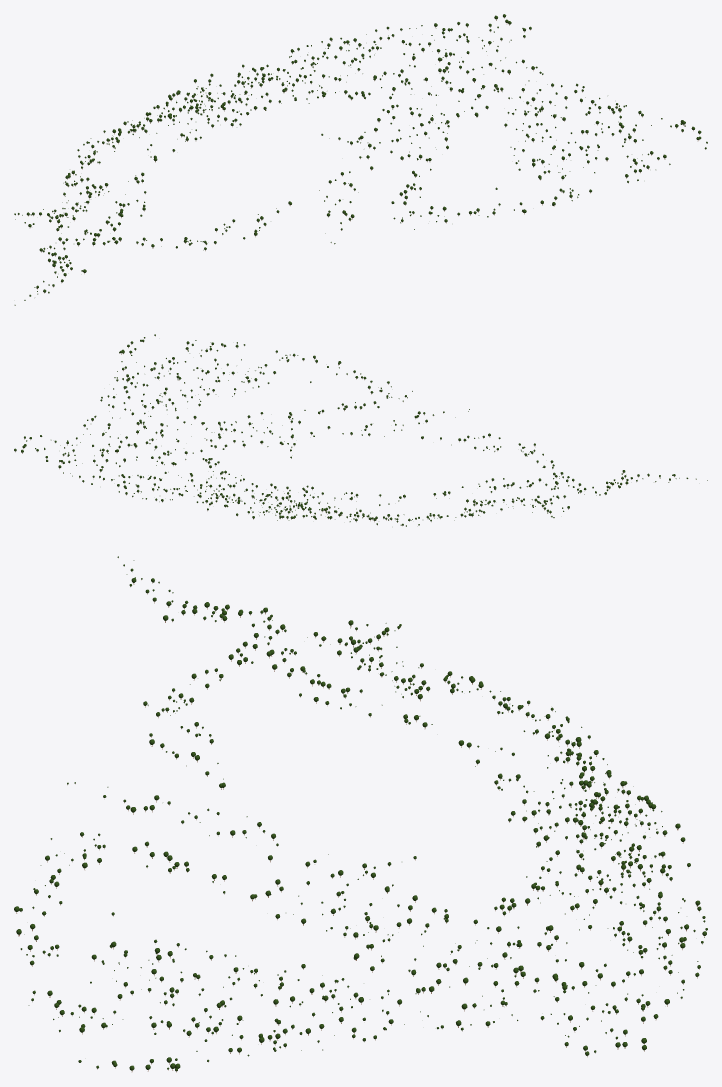
File: Trees.glb
3 views of the same model, one above another, from view 1: azimuth 30°, elevation 25°; view 2: azimuth 150°, elevation 25°; view 3: azimuth 270°, elevation 25° (orthographic). The views are drawn at different scales.
Size of the model in its own units: 3273 by 25.43 by 1866.
